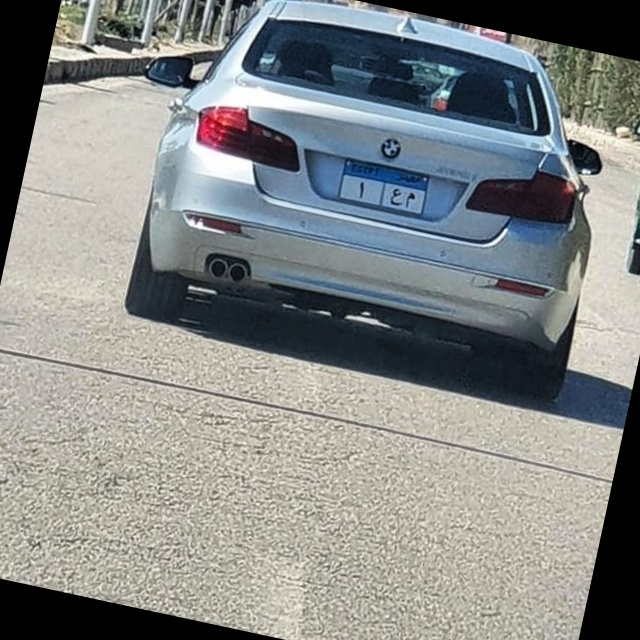License Plate: (333, 155, 434, 220)
